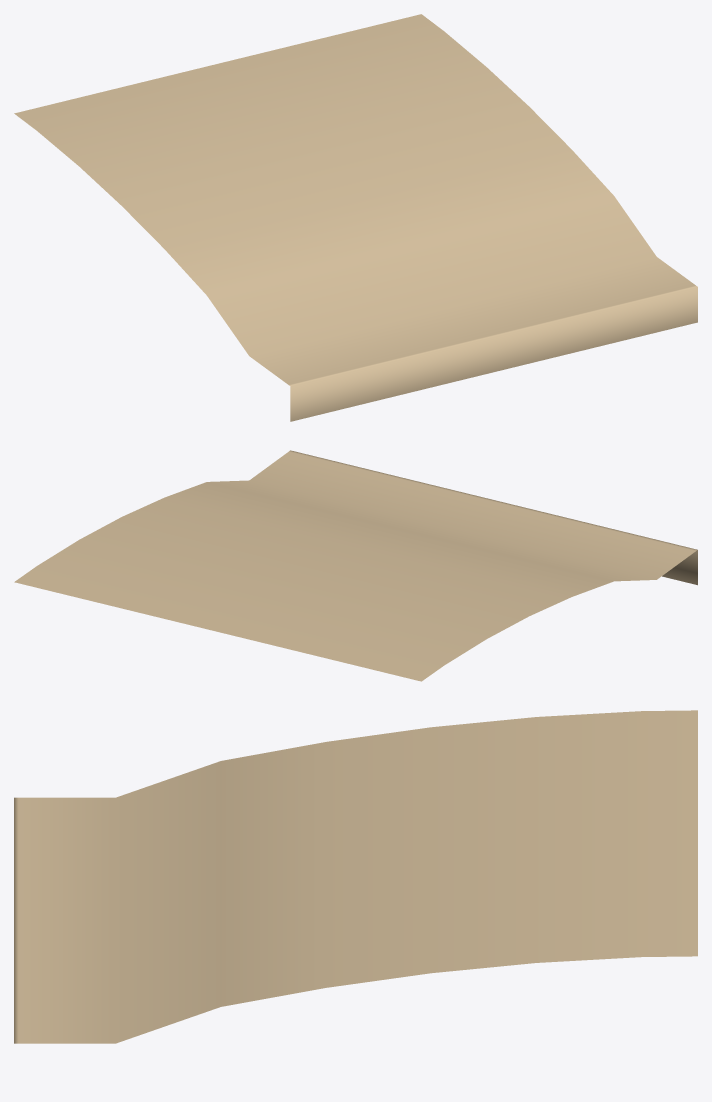
File: Ceiling piece 2.fbx
3 views of the same model, one above another, from view 1: azimuth 30°, elevation 25°; view 2: azimuth 150°, elevation 25°; view 3: azimuth 270°, elevation 25° (orthographic). The views are drawn at different scales.
Visible parts, largest first — view 1: Ceiling Edge.001; view 2: Ceiling Edge.001; view 3: Ceiling Edge.001.
Boxes of the visible parts, x1,y1,x2,y2 form: Ceiling Edge.001: [14, 14, 697, 421]; Ceiling Edge.001: [14, 450, 697, 681]; Ceiling Edge.001: [14, 710, 697, 1043].
Size of the model in its own units: 1200 by 298 by 1410.
